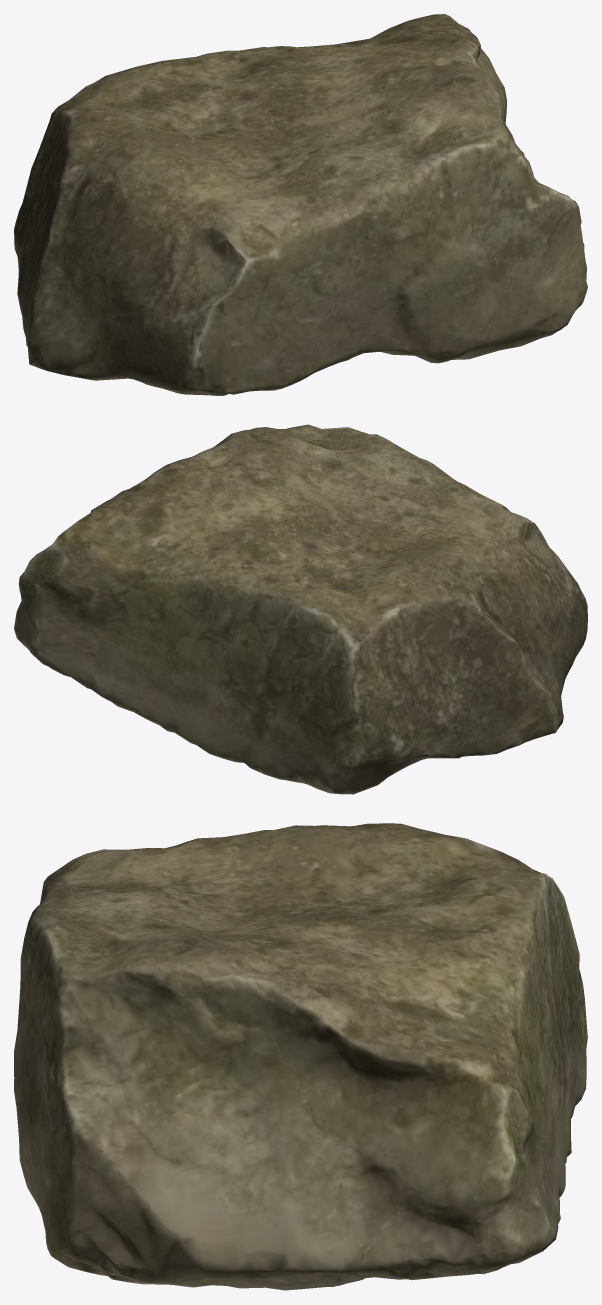
The model's file is moss-rock-01.glb.
3 renders of one model, top to bottom at view 1: azimuth 30°, elevation 25°; view 2: azimuth 150°, elevation 25°; view 3: azimuth 270°, elevation 25°, orthographic. The views are drawn at different scales.
Visible parts, largest first — view 1: moss rock 08; view 2: moss rock 08; view 3: moss rock 08.
Part boxes in pixels (box(x1,y1,x2,y2)): moss rock 08: box(14, 14, 587, 395); moss rock 08: box(14, 424, 587, 794); moss rock 08: box(14, 823, 587, 1290).
Size of the model in its own units: 1.93 by 0.8581 by 1.39.
Materials: 1 (1 with a texture image).
